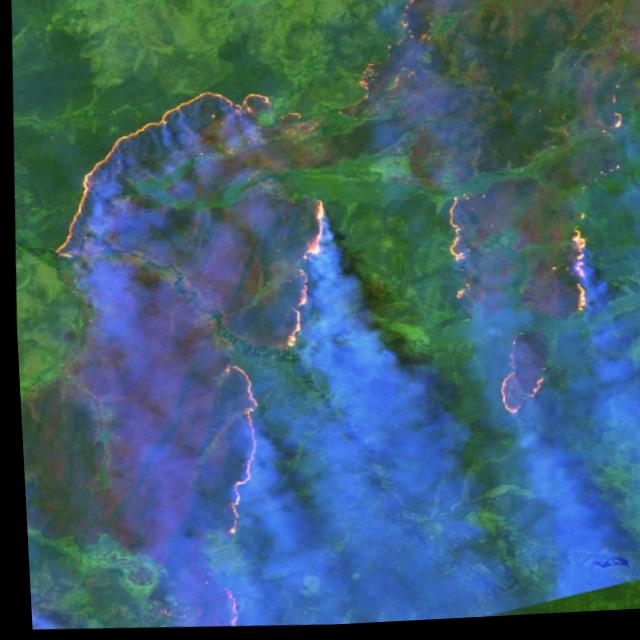fire: (4, 76, 349, 640), (333, 0, 640, 442)
